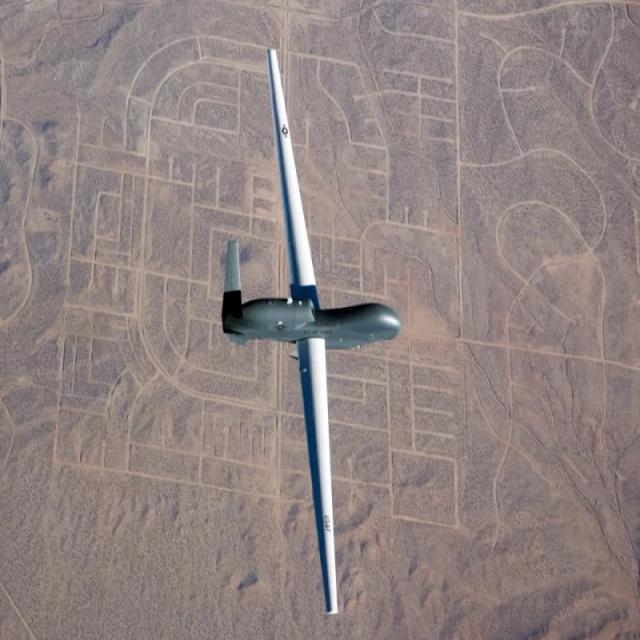MIL_Plane: (222, 49, 400, 612)
